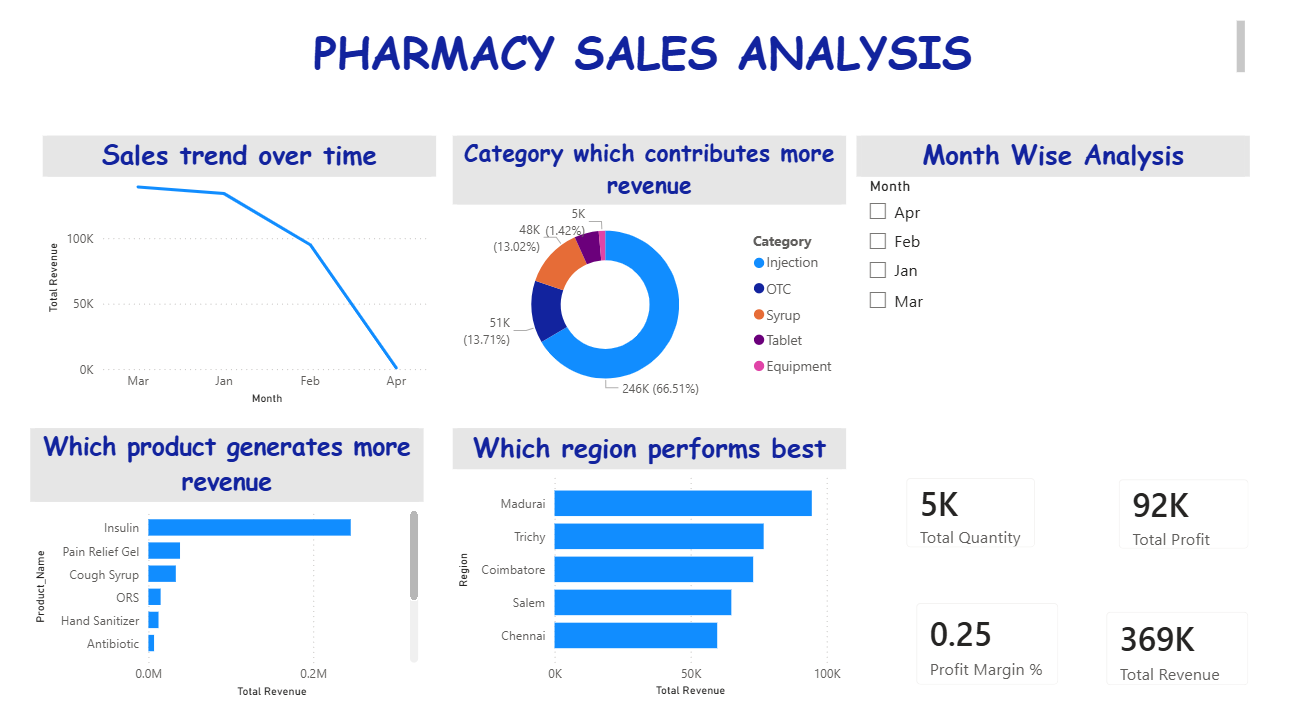

The page's visual inventory and layout, read from the dashboard file:
{"tool":"powerbi","page":{"name":"Page 1","canvas":[1280,720],"ordinal":0},"visuals":[{"type":"cardVisual","fields":{"Data":["Medical_Shop_Data.Total Revenue"]},"box":[1071.6,589,173.2,106.5],"z":1000},{"type":"cardVisual","fields":{"Data":["Medical_Shop_Data.Total Profit"]},"box":[1083,459.9,161.8,102.2],"z":2000},{"type":"cardVisual","fields":{"Data":["Medical_Shop_Data.Total Quantity"]},"box":[875.8,458.5,160.4,102.2],"z":3000},{"type":"cardVisual","fields":{"Data":["Medical_Shop_Data.Profit Margin %"]},"box":[885.7,580.5,173.2,115],"z":4000},{"type":"lineChart","title":"Sales trend over time ","fields":{"Category":["Medical_Shop_Data.Month "],"Y":["Medical_Shop_Data.Total Revenue"]},"box":[48.3,140.5,384.7,268.3],"z":5000},{"type":"donutChart","title":"Category which contributes more revenue ","fields":{"Category":["Medical_Shop_Data.Category"],"Y":["Medical_Shop_Data.Total Revenue"]},"box":[448.5,140.5,384.7,268.3],"z":6000},{"type":"clusteredBarChart","title":"Which product generates more revenue","fields":{"Category":["Medical_Shop_Data.Product_Name"],"Y":["Medical_Shop_Data.Total Revenue"]},"box":[35.5,427.2,384.7,268.3],"z":7000},{"type":"clusteredBarChart","title":"Which region performs best","fields":{"Category":["Medical_Shop_Data.Region"],"Y":["Medical_Shop_Data.Total Revenue"]},"box":[449,427,385,268],"z":8000},{"type":"slicer","title":"Month Wise Analysis","fields":{"Values":["Medical_Shop_Data.Month "]},"box":[844,141,385,268],"z":9000},{"type":"textbox","box":[48.3,22.7,1180.9,65.3],"z":9002}]}

Visuals, with their boxes in screenshot pixels (x1, y1, x2, y2), scaled from the page's 1280x720 canvas onto the 1302x724 screenshot:
cardVisual - Medical_Shop_Data.Total Revenue: left=1090, top=592, right=1266, bottom=699
cardVisual - Medical_Shop_Data.Total Profit: left=1102, top=462, right=1266, bottom=565
cardVisual - Medical_Shop_Data.Total Quantity: left=891, top=461, right=1054, bottom=564
cardVisual - Medical_Shop_Data.Profit Margin %: left=901, top=584, right=1077, bottom=699
"Sales trend over time " lineChart: left=49, top=141, right=440, bottom=411
"Category which contributes more revenue " donutChart: left=456, top=141, right=848, bottom=411
"Which product generates more revenue" clusteredBarChart: left=36, top=430, right=427, bottom=699
"Which region performs best" clusteredBarChart: left=457, top=429, right=848, bottom=699
"Month Wise Analysis" slicer: left=859, top=142, right=1250, bottom=411
textbox: left=49, top=23, right=1250, bottom=88
